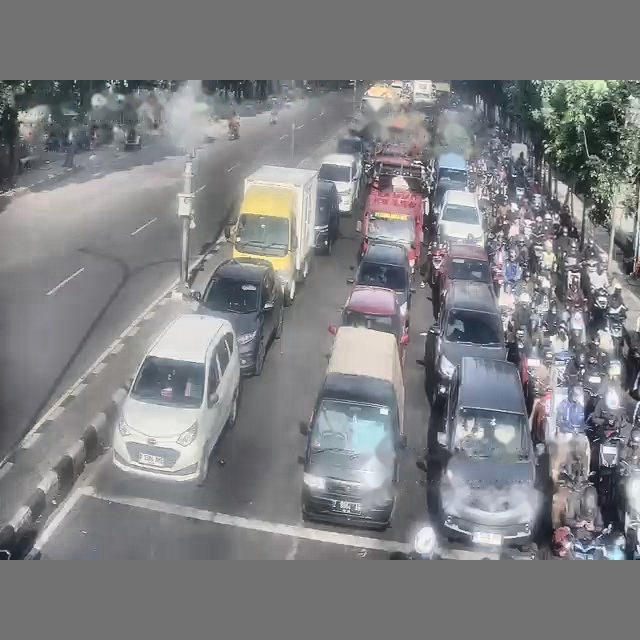Mobil: (112, 314, 240, 483), (300, 327, 405, 529), (430, 357, 541, 548), (424, 281, 506, 408), (198, 258, 283, 375), (347, 243, 414, 323), (341, 286, 408, 362), (438, 243, 492, 308), (318, 153, 362, 214), (437, 190, 485, 245), (314, 180, 339, 254), (336, 136, 364, 157)
Truk: (233, 165, 317, 305)
